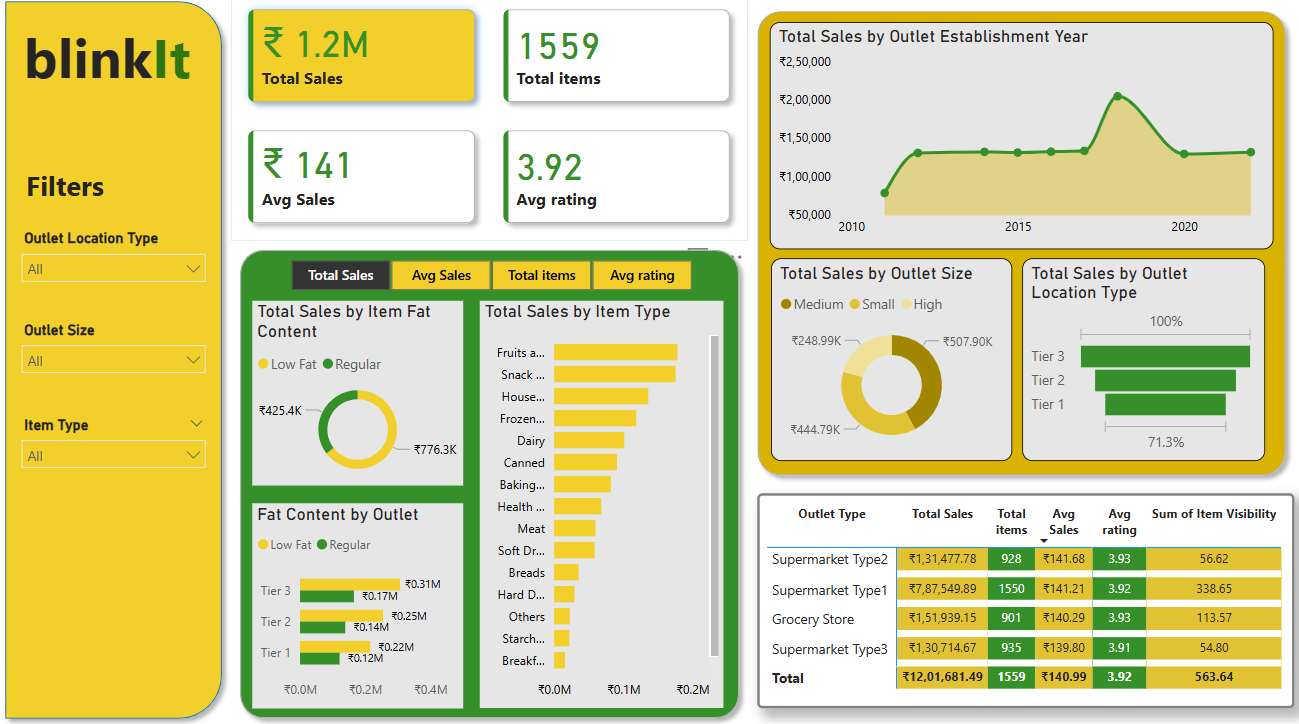

What the dashboard file says about the page in this screenshot:
{"tool":"powerbi","page":{"name":"Page 1","canvas":[1280,720],"ordinal":0},"visuals":[{"type":"shape","box":[0,0,230,720],"z":0},{"type":"textbox","box":[15,22.5,188.8,87.5],"z":1000},{"type":"cardVisual","fields":{"Data":["BlinkIT Grocery Data.Total Sales","BlinkIT Grocery Data.Total items","BlinkIT Grocery Data.Avg Sales","BlinkIT Grocery Data.Avg rating"]},"box":[230,0,506.2,243.8],"z":2000},{"type":"shape","box":[230,243.8,506.2,476.2],"z":3000},{"type":"slicer","fields":{"Values":["Matrix.Matrix"]},"box":[262.9,255.6,441.4,42.8],"z":4000},{"type":"donutChart","fields":{"Y":["BlinkIT Grocery Data.Total Sales"],"Category":["BlinkIT Grocery Data.Item Fat Content"]},"box":[250.7,302,206.7,181],"z":5000},{"type":"clusteredBarChart","title":"Fat Content by Outlet","fields":{"Y":["BlinkIT Grocery Data.Total Sales"],"Category":["BlinkIT Grocery Data.Outlet Location Type"],"Series":["BlinkIT Grocery Data.Item Fat Content"]},"box":[250.7,500.1,206.7,200.5],"z":6000},{"type":"barChart","fields":{"Y":["BlinkIT Grocery Data.Total Sales"],"Category":["BlinkIT Grocery Data.Item Type"]},"box":[473.2,302,238.5,398.6],"z":7000},{"type":"pivotTable","fields":{"Rows":["BlinkIT Grocery Data.Outlet Type"],"Values":["BlinkIT Grocery Data.Total Sales","BlinkIT Grocery Data.Total items","BlinkIT Grocery Data.Avg Sales","BlinkIT Grocery Data.Avg rating","Sum(BlinkIT Grocery Data.Item Visibility)"]},"box":[744.7,490.4,525.8,210.3],"z":8000},{"type":"shape","box":[736.1,9.8,534.4,472],"z":9000},{"type":"lineChart","fields":{"Y":["BlinkIT Grocery Data.Total Sales"],"Category":["BlinkIT Grocery Data.Outlet Establishment Year"]},"box":[756.9,29.3,492.8,222.6],"z":10000},{"type":"donutChart","fields":{"Y":["BlinkIT Grocery Data.Total Sales"],"Category":["BlinkIT Grocery Data.Outlet Size"]},"box":[758.2,260.5,236,198.1],"z":11000},{"type":"funnel","fields":{"Y":["BlinkIT Grocery Data.Total Sales"],"Category":["BlinkIT Grocery Data.Outlet Location Type"]},"box":[1003.9,260.5,237.2,198.1],"z":12000},{"type":"textbox","box":[24.5,166.3,102.7,50.1],"z":13000},{"type":"slicer","fields":{"Values":["BlinkIT Grocery Data.Outlet Location Type"]},"box":[14.7,227.4,200.5,73.4],"z":14000},{"type":"slicer","fields":{"Values":["BlinkIT Grocery Data.Outlet Size"]},"box":[14.7,316.7,200.5,73.4],"z":15000},{"type":"slicer","fields":{"Values":["BlinkIT Grocery Data.Item Type"]},"box":[14.7,409.6,200.5,73.4],"z":16000}]}

Visuals, with their boxes in screenshot pixels (x1, y1, x2, y2), scaled from the page's 1280x720 canvas onto the 1299x724 screenshot:
shape: (0, 0, 233, 723)
textbox: (15, 23, 207, 111)
cardVisual - BlinkIT Grocery Data.Total Sales x BlinkIT Grocery Data.Total items: (233, 0, 747, 245)
shape: (233, 245, 747, 723)
slicer - Matrix.Matrix: (267, 257, 715, 300)
donutChart - BlinkIT Grocery Data.Total Sales x BlinkIT Grocery Data.Item Fat Content: (254, 304, 464, 486)
"Fat Content by Outlet" clusteredBarChart: (254, 503, 464, 704)
barChart - BlinkIT Grocery Data.Total Sales x BlinkIT Grocery Data.Item Type: (480, 304, 722, 704)
pivotTable - BlinkIT Grocery Data.Outlet Type x BlinkIT Grocery Data.Total Sales: (756, 493, 1289, 705)
shape: (747, 10, 1289, 484)
lineChart - BlinkIT Grocery Data.Total Sales x BlinkIT Grocery Data.Outlet Establishment Year: (768, 29, 1268, 253)
donutChart - BlinkIT Grocery Data.Total Sales x BlinkIT Grocery Data.Outlet Size: (769, 262, 1009, 461)
funnel - BlinkIT Grocery Data.Total Sales x BlinkIT Grocery Data.Outlet Location Type: (1019, 262, 1260, 461)
textbox: (25, 167, 129, 218)
slicer - BlinkIT Grocery Data.Outlet Location Type: (15, 229, 218, 302)
slicer - BlinkIT Grocery Data.Outlet Size: (15, 318, 218, 392)
slicer - BlinkIT Grocery Data.Item Type: (15, 412, 218, 486)
